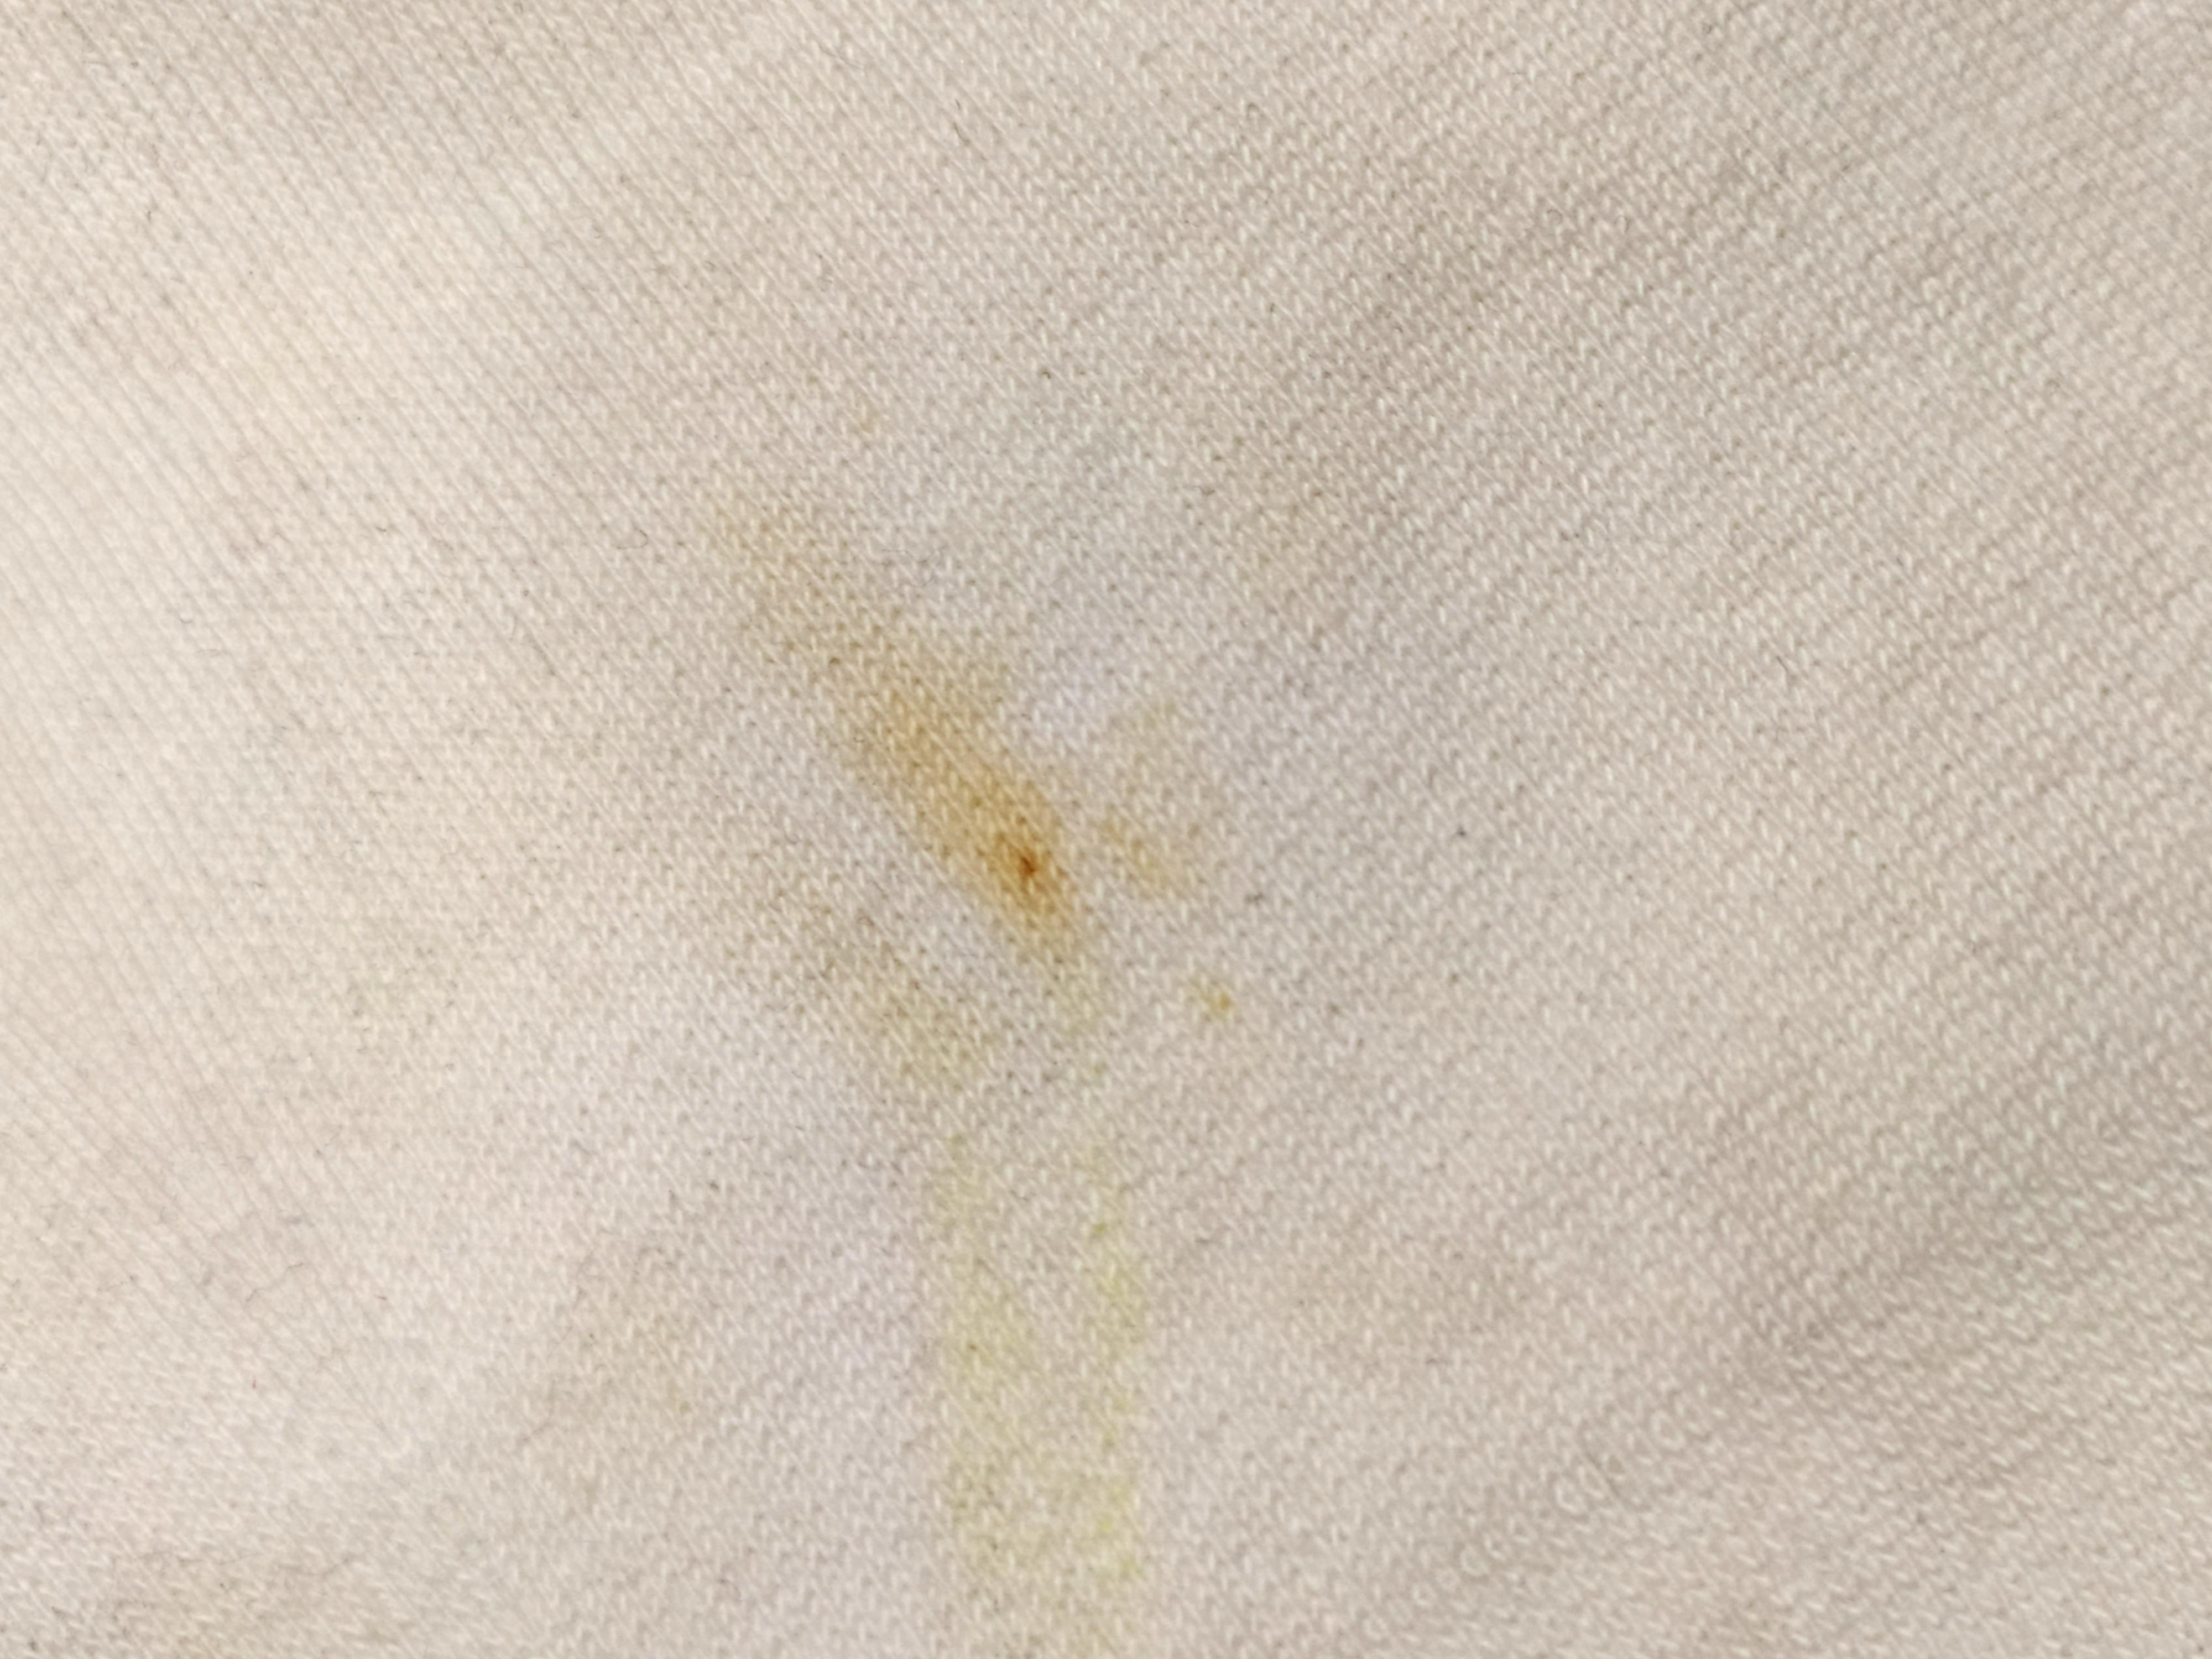stain: (862, 633, 1075, 955)
